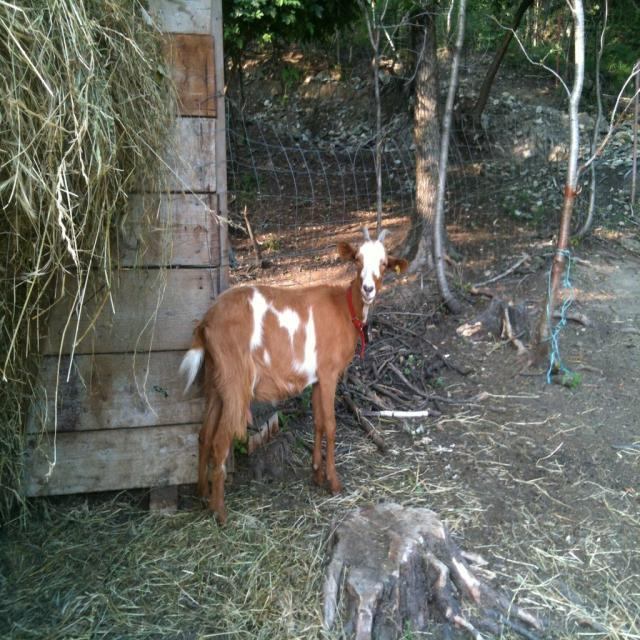Goat: (178, 224, 408, 527)
